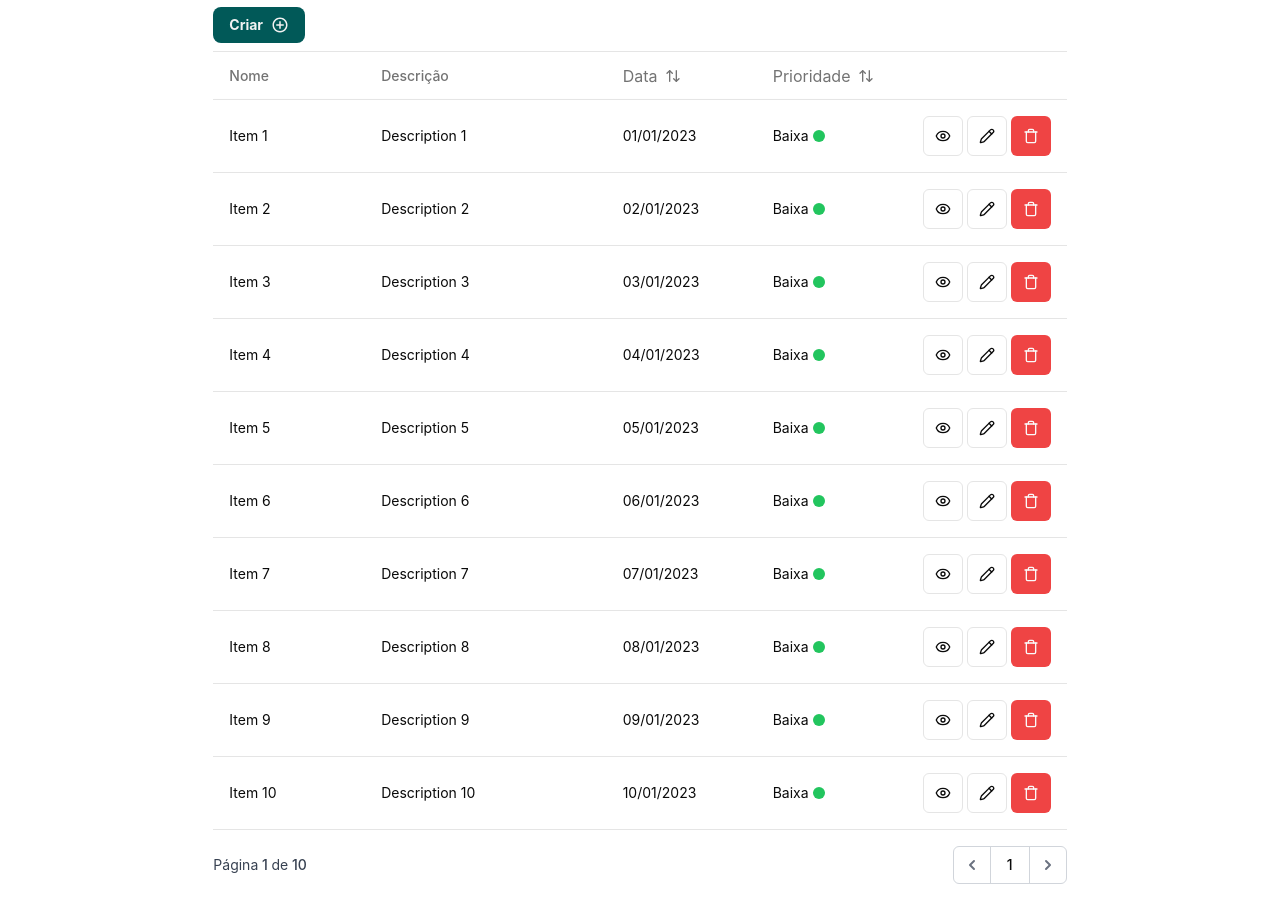
Scenario: Index page - pagination › Should return correctly paginated items to the current page
The image size is (1280, 900).
(page scrolled)
Check: the text "Item 1" is shown, box [213,100,365,172]
Check: the text "Item 2" is shown, box [213,172,365,246]
Click the button with test id "next-page": (1048, 865) [1029,846,1067,884]
(page scrolled)
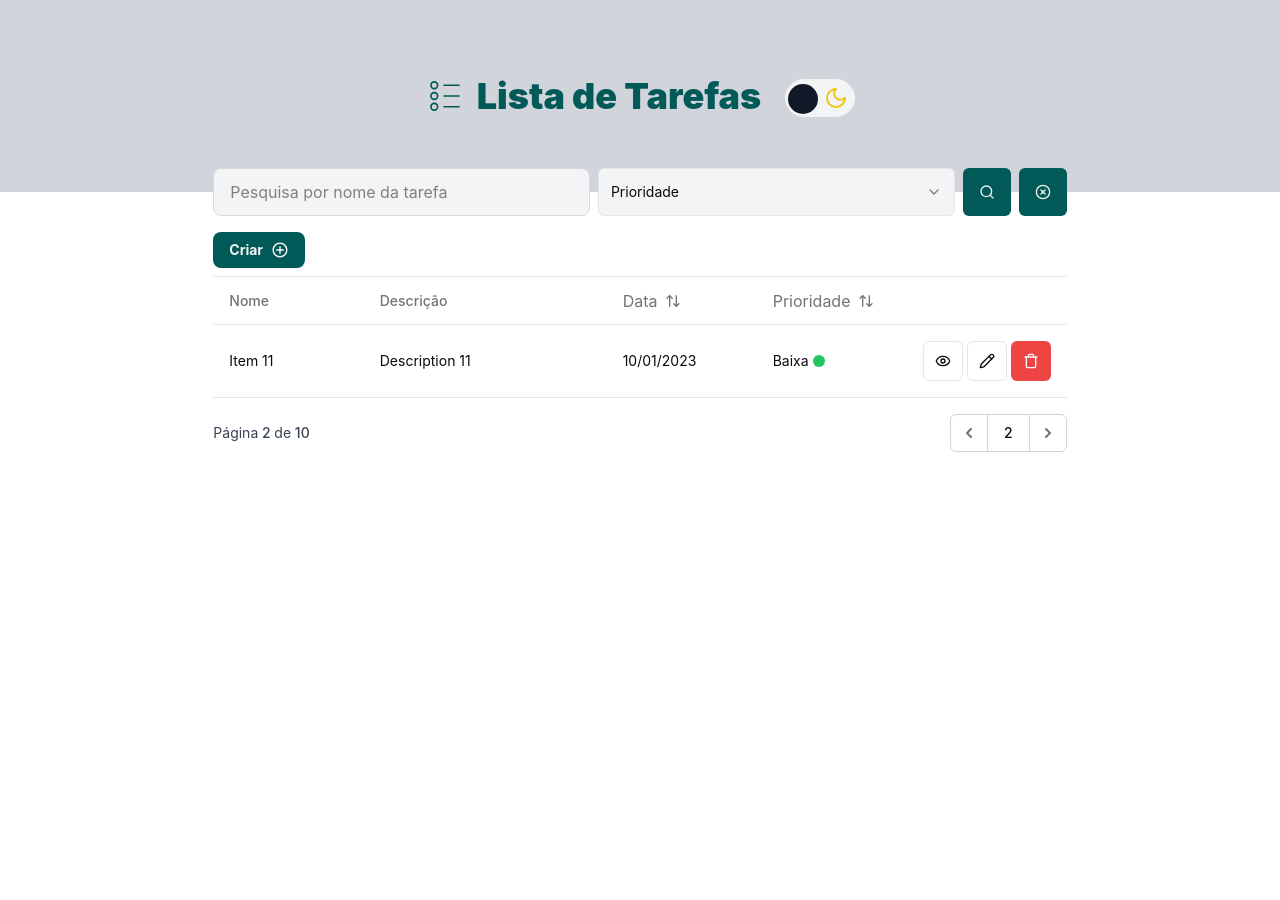
Check: the text "Item 11" is shown, box [213,324,364,398]
